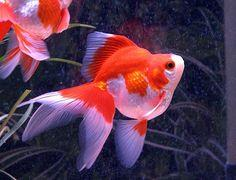goldfish: (72, 33, 197, 132)
